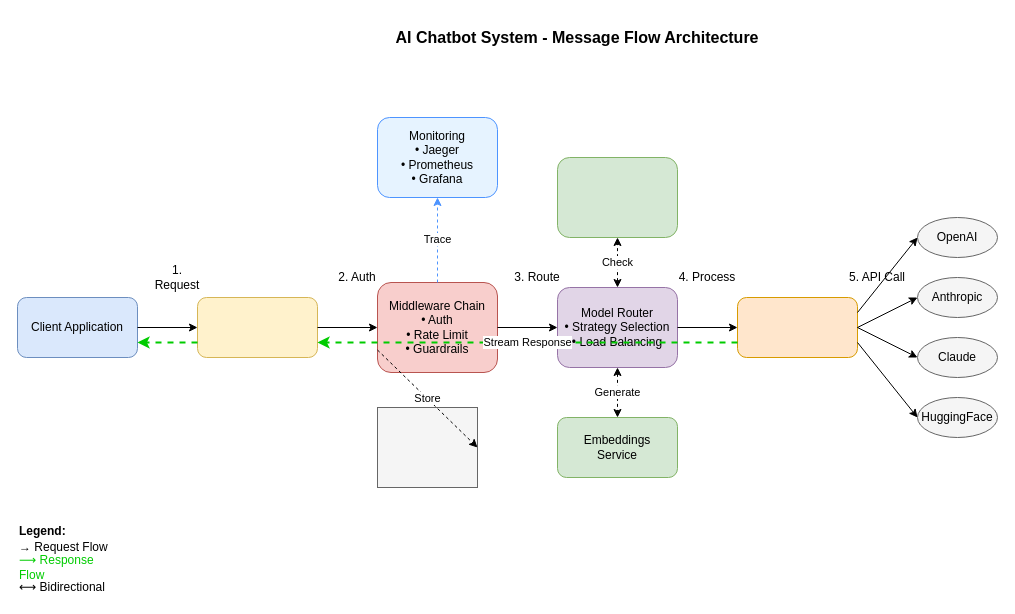
Image size: 1015x614. Some labels were removed from this diagram. Each missing label, with the box of its shape:
Database • Conversations • Metrics: (376, 406, 478, 488)
Provider Adapters: (736, 296, 858, 358)
Semantic Cache • Vector Search • TTL Management: (556, 156, 678, 238)
WebSocket Gateway: (196, 296, 318, 358)
